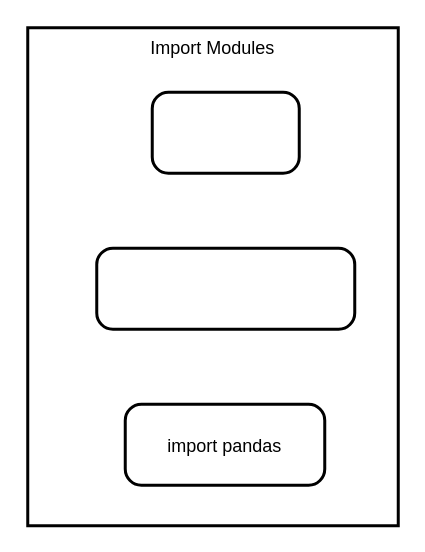
The diagram is 425 pixels wide and 552 high, and some of its shapes have lost their labels. The box of each missing label's shape, as (x1, y1, x2, y2) in pixels:
import numpy as np: (94, 246, 356, 330)
import os: (150, 90, 300, 174)
